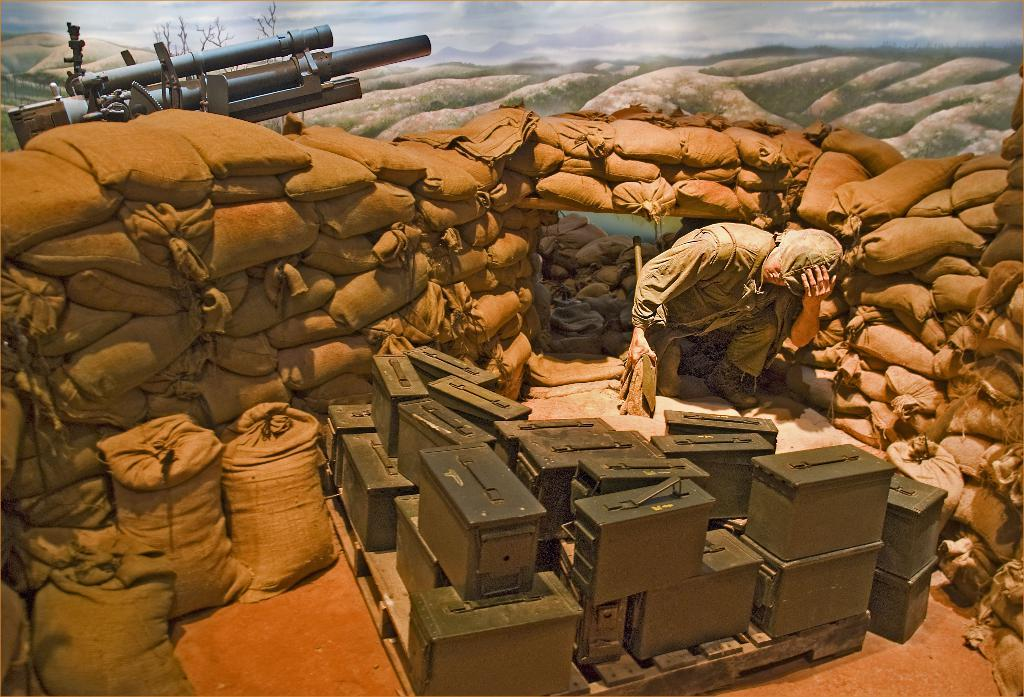Rifle: (22, 2, 430, 151)
